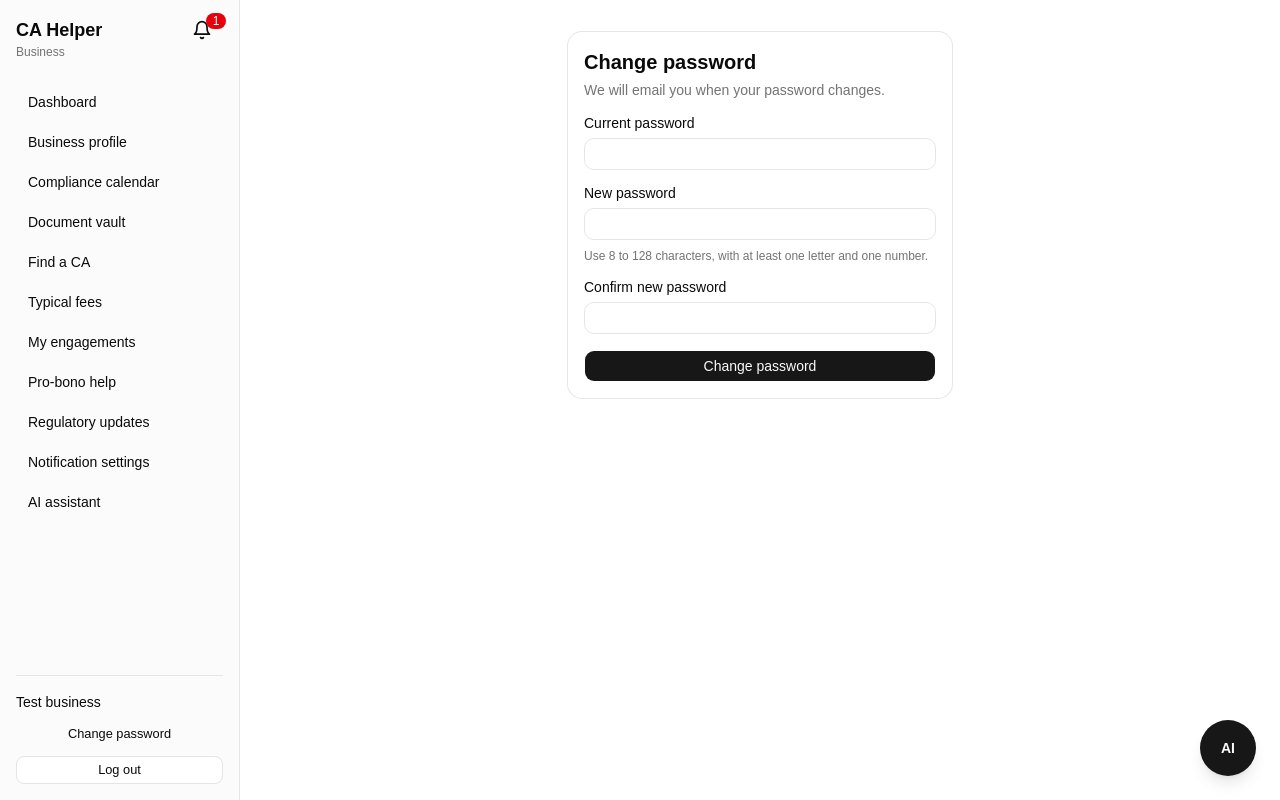
it: notification bell › opens the tray; clicking an entry marks it read and opens its page
The image size is (1280, 800).
Click the button named "Notifications, 1 unread" at (202, 30), box [181, 16, 223, 44]
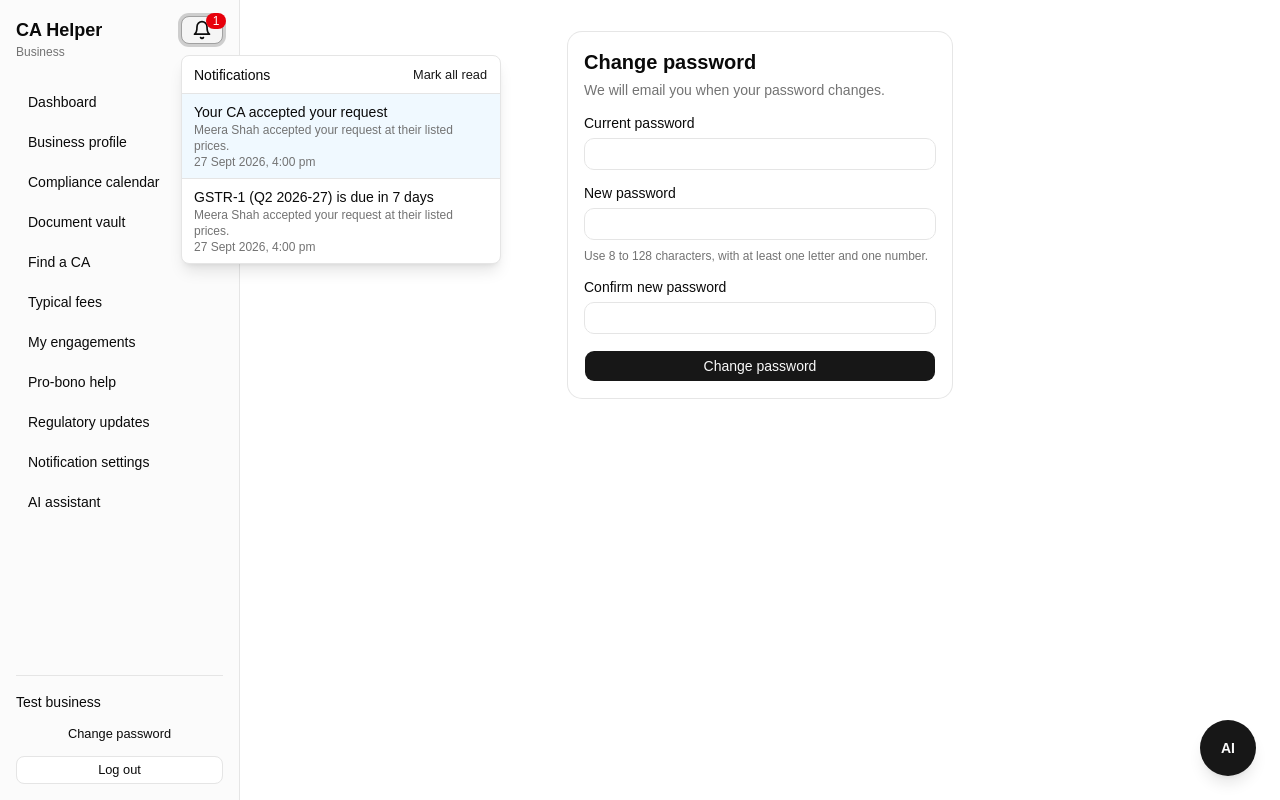
Click the text "Your CA accepted your request" at (291, 112), box [194, 104, 387, 120]
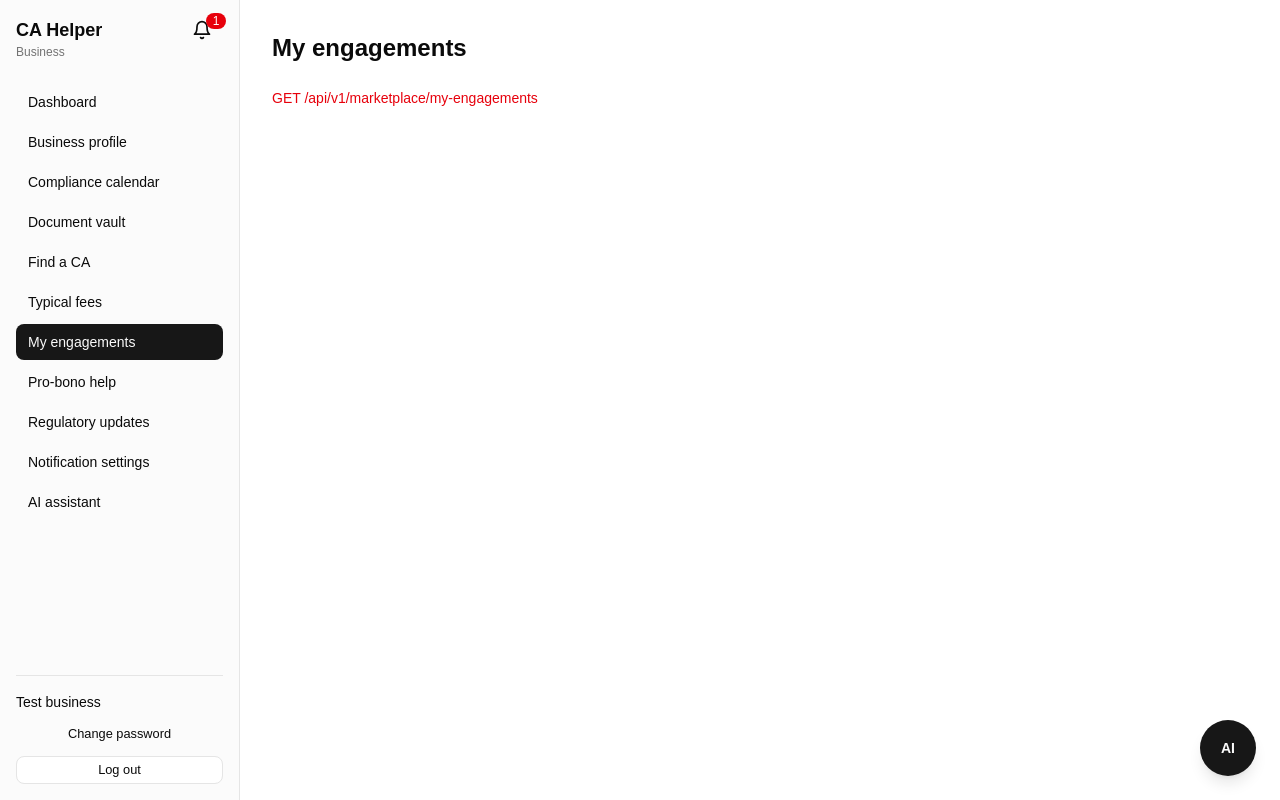
Check: the text "Notifications" is gone
Check: the heading "My engagements" is shown, box [272, 34, 467, 61]
